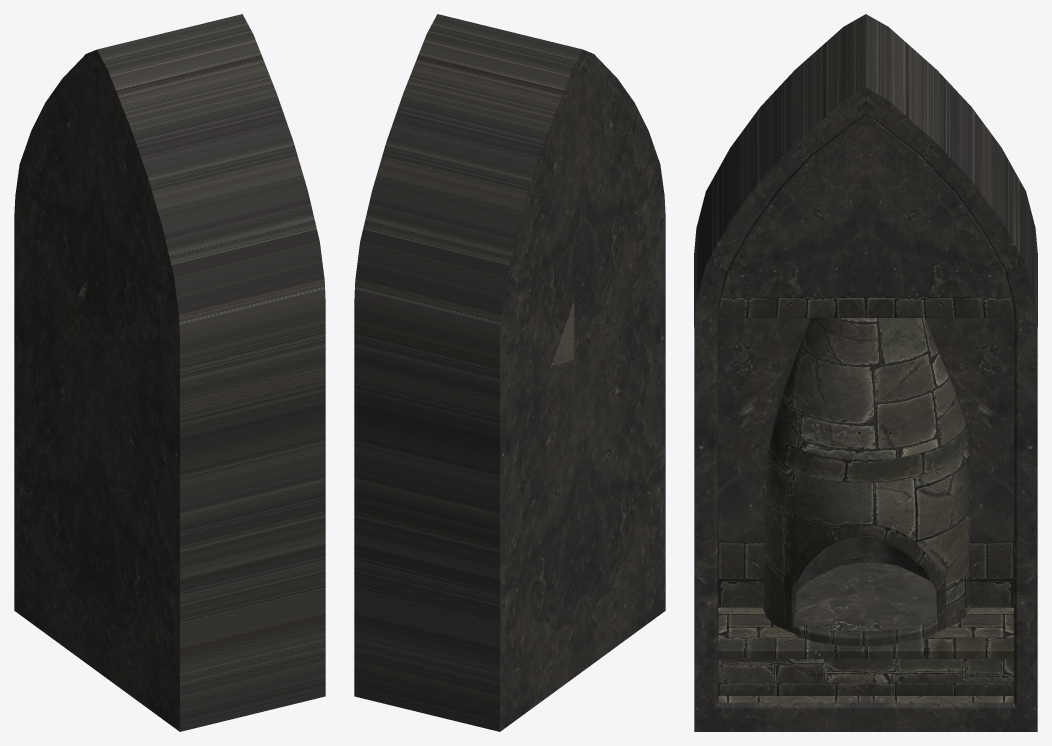
3 renders of one model, left to right at view 1: azimuth 30°, elevation 25°; view 2: azimuth 150°, elevation 25°; view 3: azimuth 270°, elevation 25°, orthographic. The views are drawn at different scales.
Visible parts, largest first — view 1: SM_Kitchen_Inner_06_LOD0; view 2: SM_Kitchen_Inner_06_LOD0; view 3: SM_Kitchen_Inner_06_LOD0.
Boxes of the visible parts, <box> form: SM_Kitchen_Inner_06_LOD0: <box>14,14,325,731</box>; SM_Kitchen_Inner_06_LOD0: <box>354,14,665,731</box>; SM_Kitchen_Inner_06_LOD0: <box>694,14,1037,731</box>.
Bounding box in the file's own units: 2.09 × 7.93 × 3.83.
Materials: 3 (3 with a texture image).
